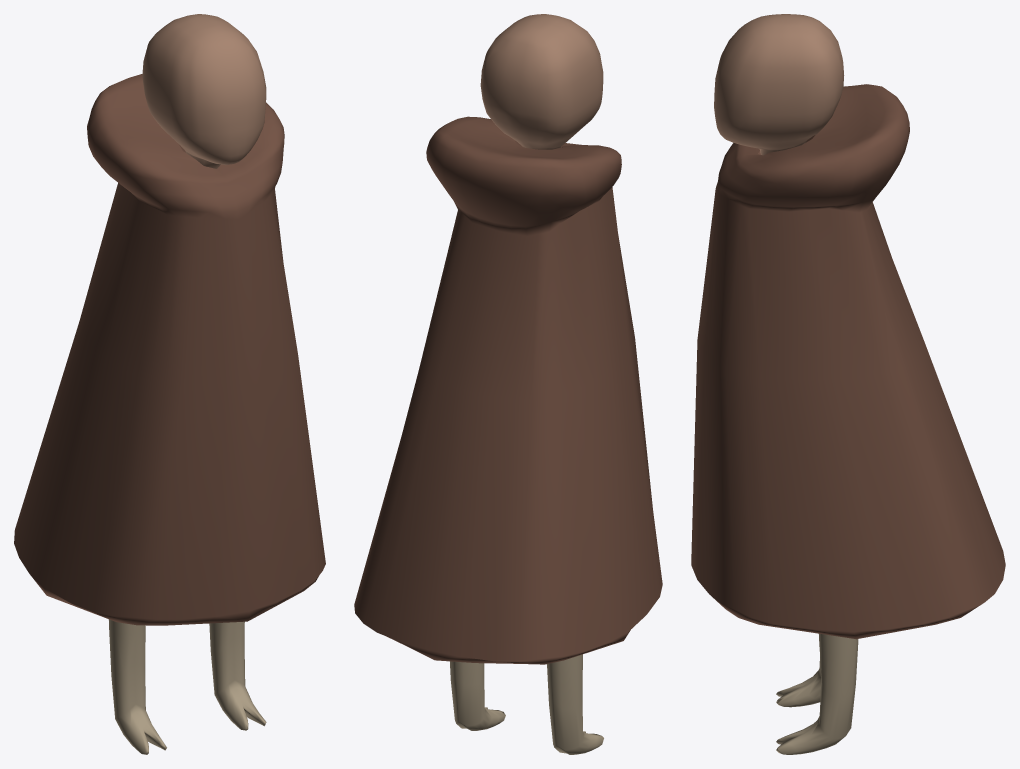
The model's file is MC_prototype.fbx.
The picture shows the model from 3 angles, left to right: view 1: azimuth 30°, elevation 25°; view 2: azimuth 150°, elevation 25°; view 3: azimuth 270°, elevation 25°; orthographic projection.
Parts seen in each view (by area): view 1: pCube4; view 2: pCube4; view 3: pCube4.
Boxes of the visible parts, bbox=[...] form: pCube4: bbox=[14, 14, 325, 754]; pCube4: bbox=[354, 14, 662, 754]; pCube4: bbox=[691, 14, 1005, 754].
Size of the model in its own units: 2.17 by 6.02 by 2.43.
